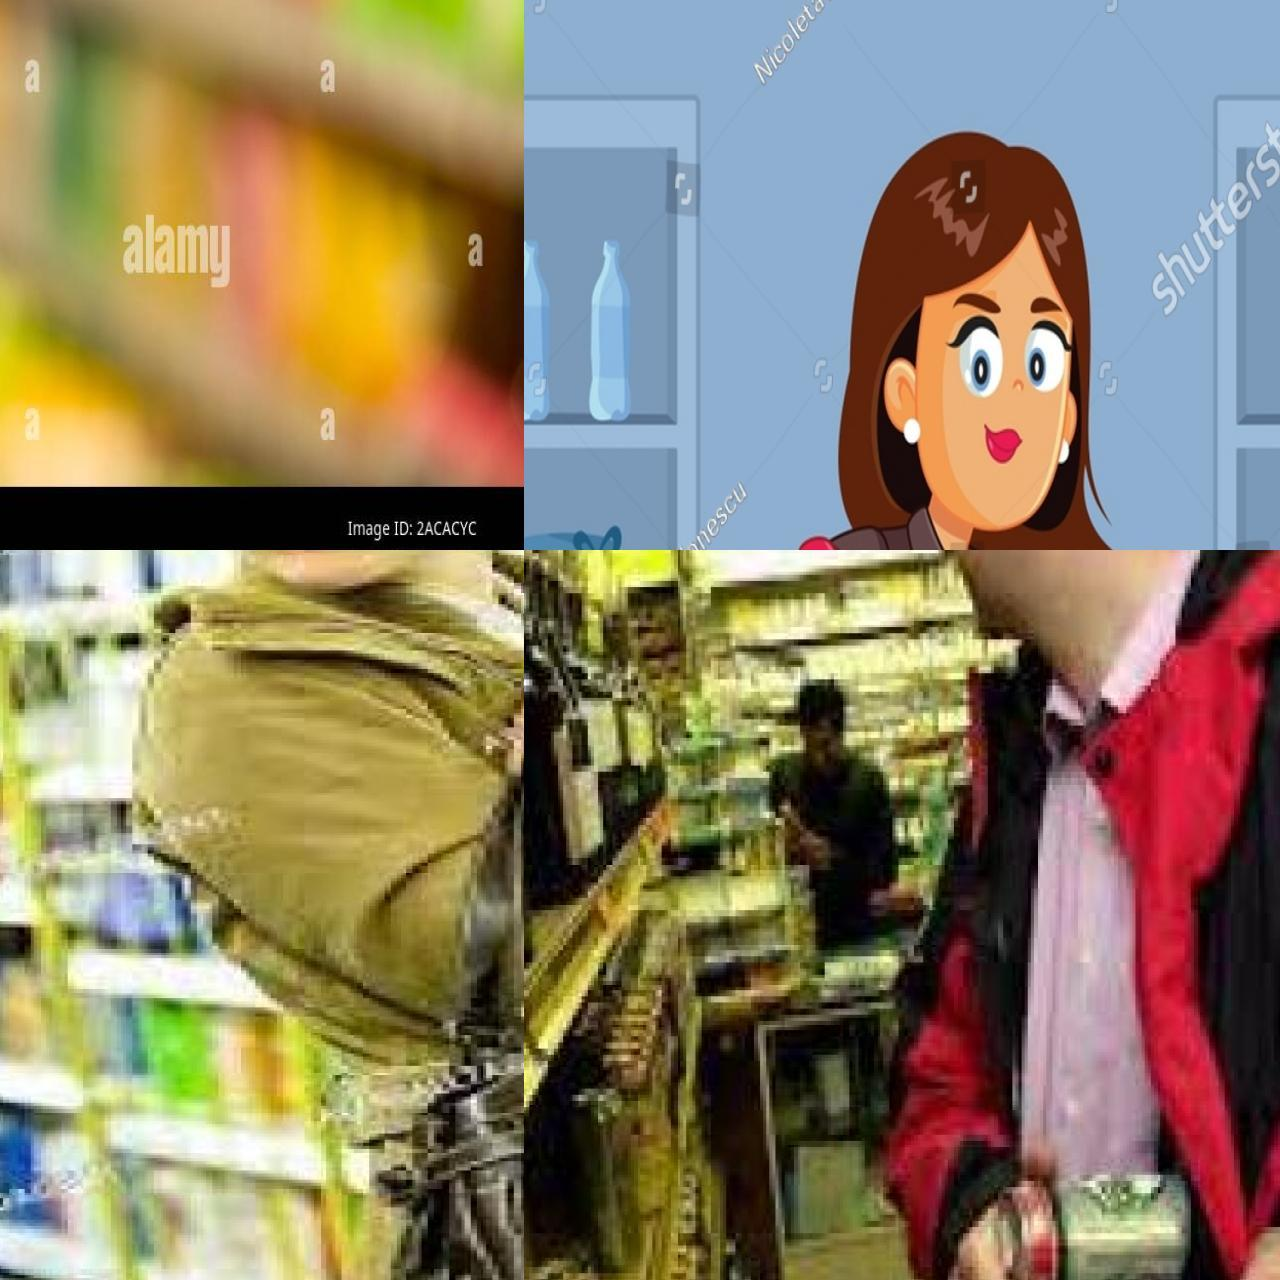Shoplifting: (0, 573, 524, 1280), (0, 550, 524, 1221), (747, 663, 1280, 1280), (0, 0, 127, 484)
